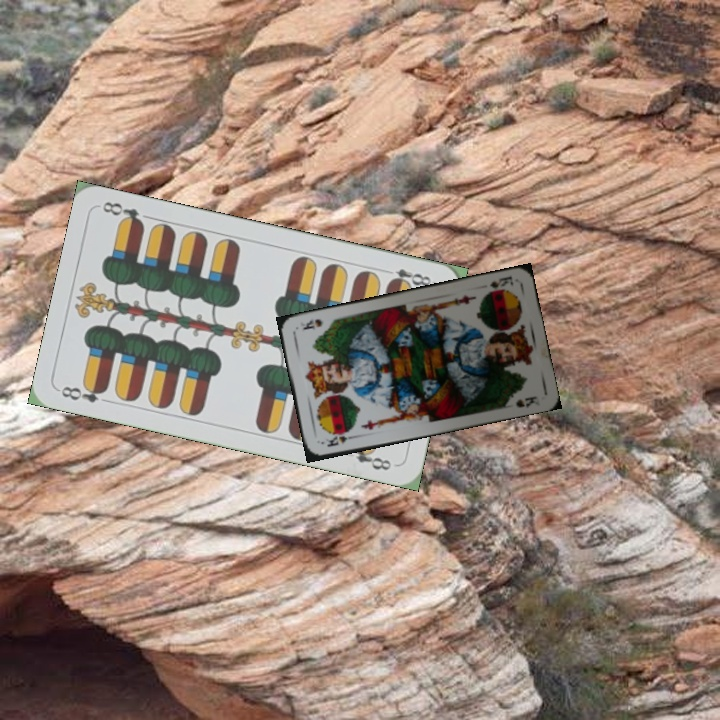E8: (380, 264, 438, 291), (57, 379, 109, 406)
SK: (484, 272, 516, 295), (322, 429, 358, 449)
